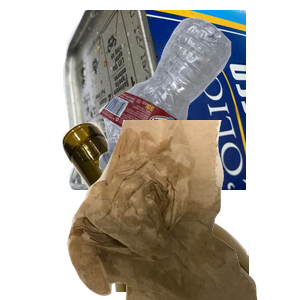glass: (60, 120, 300, 300)
metal: (60, 10, 300, 190)
plastic: (96, 15, 300, 184)
trash: (65, 120, 300, 300)
